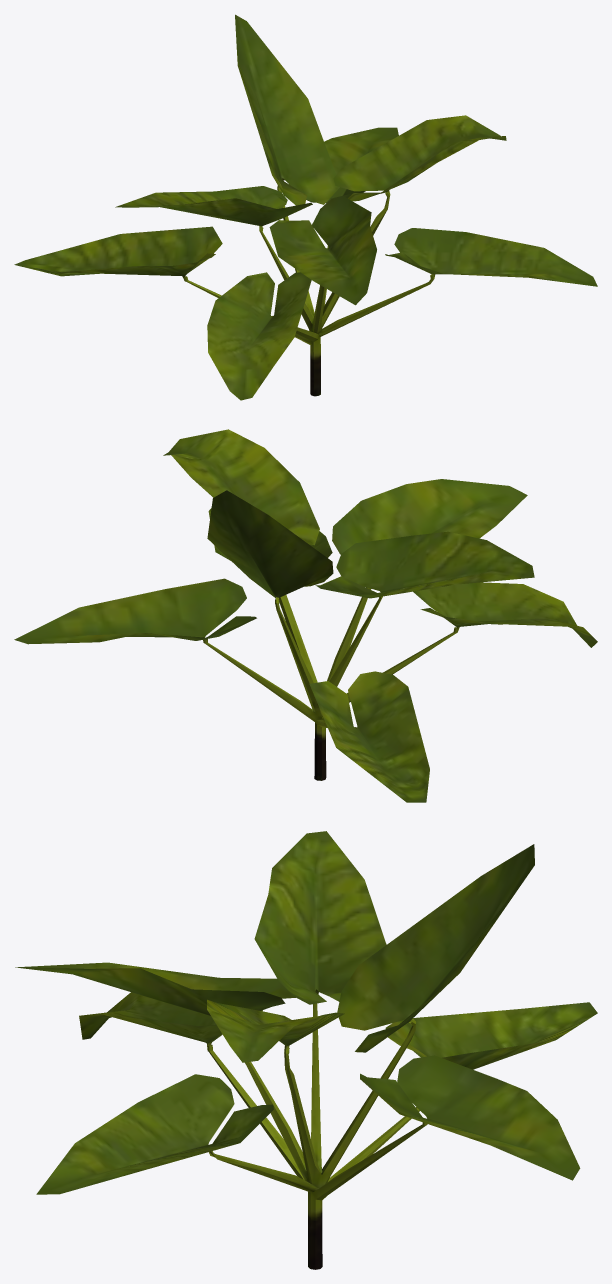
File: alocasia.lod0.glb
3 views of the same model, one above another, from view 1: azimuth 30°, elevation 25°; view 2: azimuth 150°, elevation 25°; view 3: azimuth 270°, elevation 25° (orthographic). The views are drawn at different scales.
Visible parts, largest first — view 1: alocasia_macrorrhizos_lambert1_0; view 2: alocasia_macrorrhizos_lambert1_0; view 3: alocasia_macrorrhizos_lambert1_0.
Boxes of the visible parts, x1,y1,x2,y2 form: alocasia_macrorrhizos_lambert1_0: (14, 14, 597, 400); alocasia_macrorrhizos_lambert1_0: (14, 429, 597, 802); alocasia_macrorrhizos_lambert1_0: (15, 831, 597, 1269).
Bounding box in the file's own units: 2.74 × 2.2 × 2.75.
Materials: 1 (1 with a texture image).
